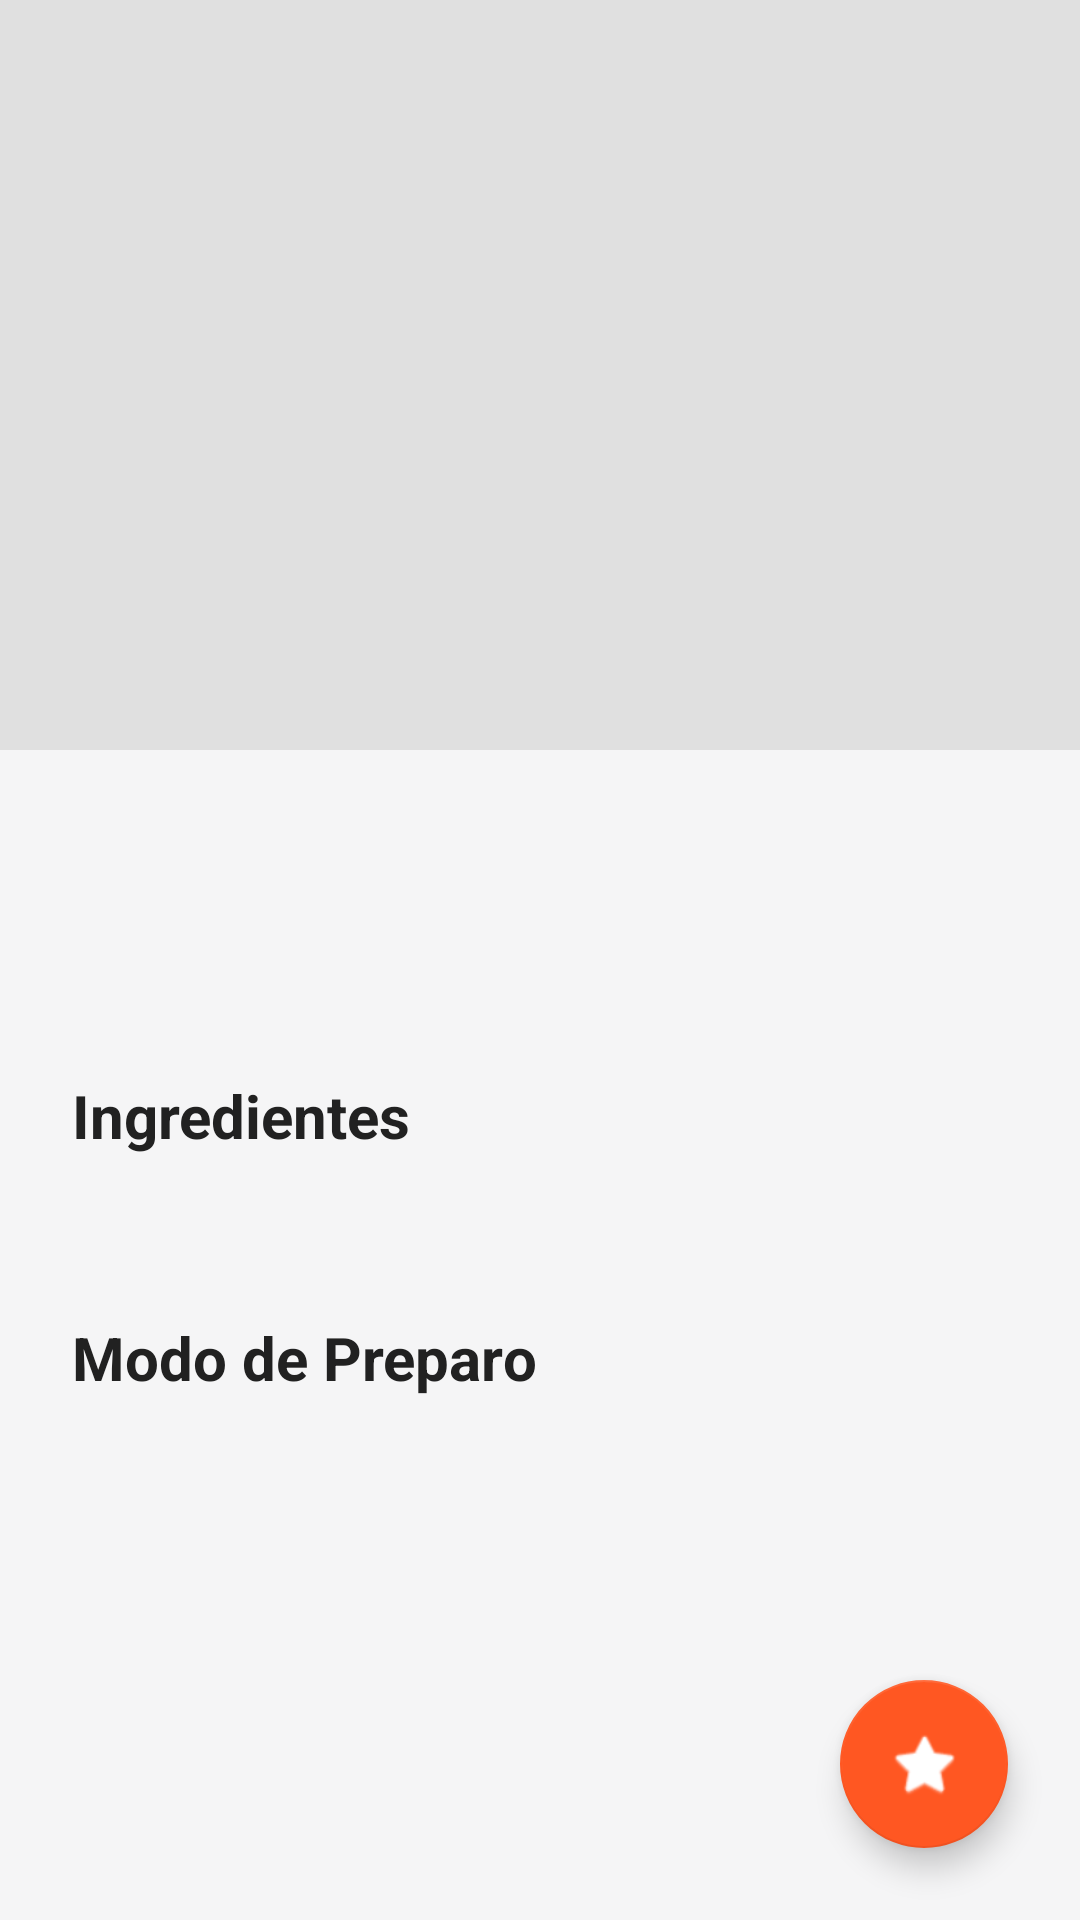

Named icons in this screenshot (1080x1920) and their centers, (x=x, y=y):
Favoritar receita: (x=924, y=1764)
